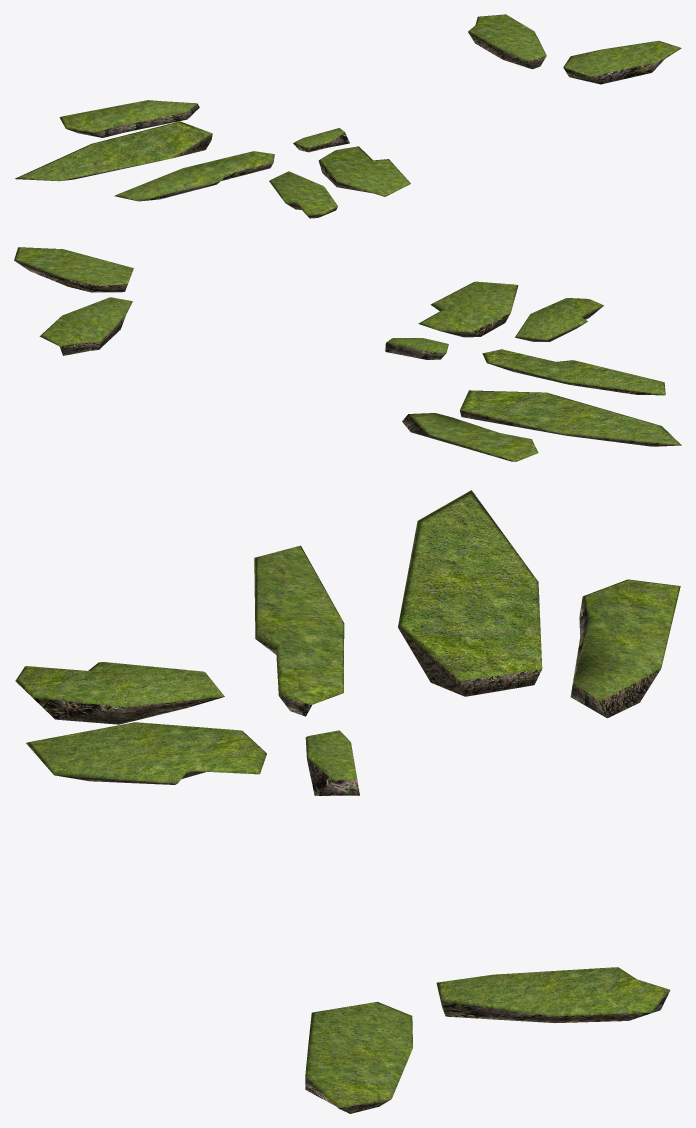
Rendered from Chinampas.obj.
3 renders of one model, top to bottom at view 1: azimuth 30°, elevation 25°; view 2: azimuth 150°, elevation 25°; view 3: azimuth 270°, elevation 25°, orthographic. The views are drawn at different scales.
Visible parts, largest first — view 1: Island_5, Island_3, Island_4, Island_1, Island_7, Island_6, Island_8, Island_2; view 2: Island_5, Island_3, Island_7, Island_1, Island_4, Island_6, Island_8, Island_2; view 3: Island_5, Island_7, Island_3, Island_4, Island_6, Island_1, Island_8, Island_2.
Part boxes in pixels (bbox=[...]): Island_5: bbox=[15, 121, 212, 181]; Island_3: bbox=[114, 151, 274, 201]; Island_4: bbox=[59, 100, 199, 137]; Island_1: bbox=[563, 40, 681, 84]; Island_7: bbox=[318, 146, 410, 196]; Island_6: bbox=[468, 14, 546, 69]; Island_8: bbox=[269, 171, 337, 218]; Island_2: bbox=[293, 128, 349, 152]; Island_5: bbox=[460, 390, 681, 446]; Island_3: bbox=[482, 349, 665, 395]; Island_7: bbox=[418, 281, 518, 337]; Island_1: bbox=[14, 247, 133, 292]; Island_4: bbox=[402, 413, 538, 461]; Island_6: bbox=[39, 297, 132, 355]; Island_8: bbox=[515, 298, 603, 341]; Island_2: bbox=[385, 338, 448, 359]; Island_5: bbox=[398, 490, 542, 696]; Island_7: bbox=[26, 722, 266, 784]; Island_3: bbox=[254, 545, 344, 716]; Island_4: bbox=[570, 579, 680, 718]; Island_6: bbox=[436, 967, 670, 1022]; Island_1: bbox=[305, 1002, 412, 1113]; Island_8: bbox=[15, 662, 224, 724]; Island_2: bbox=[305, 730, 359, 795].
Size of the model in its own units: 1615 by 28.29 by 733.
3 materials, 3 textured.
